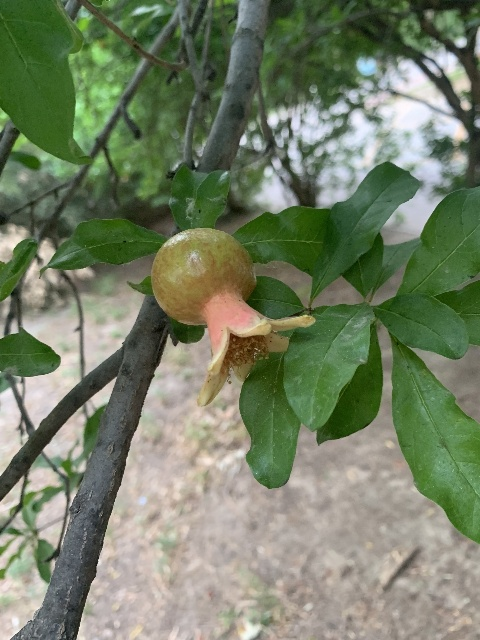early-fruit: (150, 228, 313, 409)
